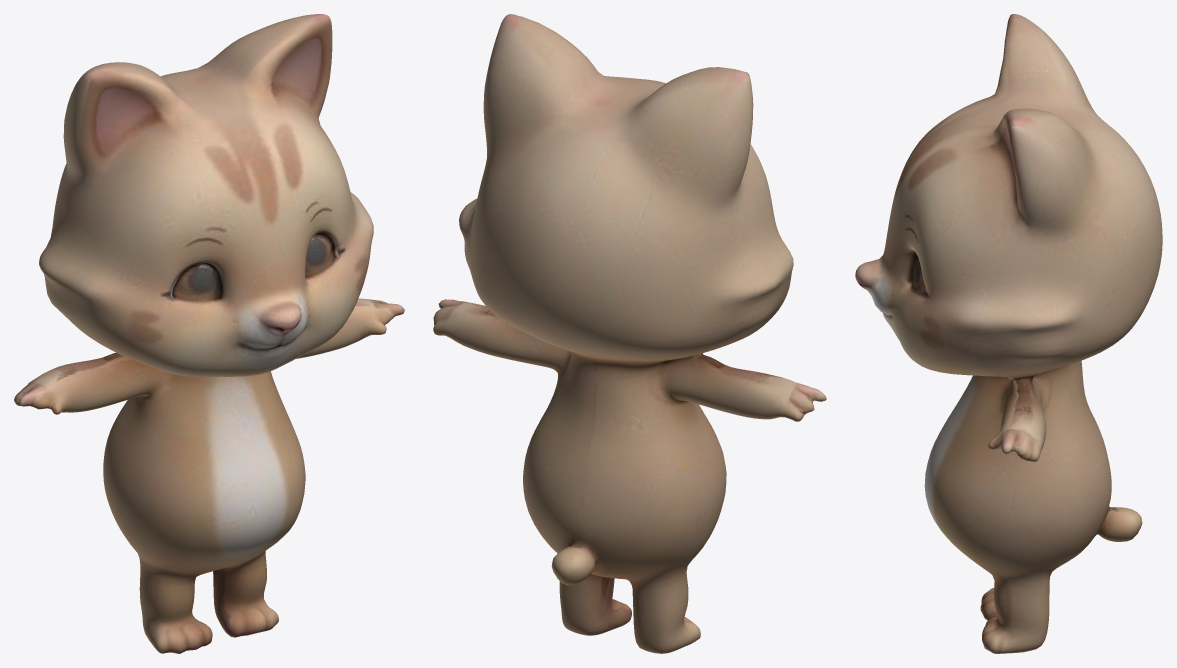
The model's file is salsa-cat.glb.
The picture shows the model from 3 angles, left to right: view 1: azimuth 30°, elevation 25°; view 2: azimuth 150°, elevation 25°; view 3: azimuth 270°, elevation 25°; orthographic projection. The views are drawn at different scales.
Parts seen in each view (by area): view 1: CatBody; view 2: CatBody; view 3: CatBody.
Boxes of the visible parts, x1,y1,x2,y2 form: CatBody: [14, 14, 404, 653]; CatBody: [433, 14, 826, 653]; CatBody: [855, 14, 1162, 653].
Bounding box in the file's own units: 1.02 × 1.5 × 0.7414.
Materials: 1 (1 with a texture image).
